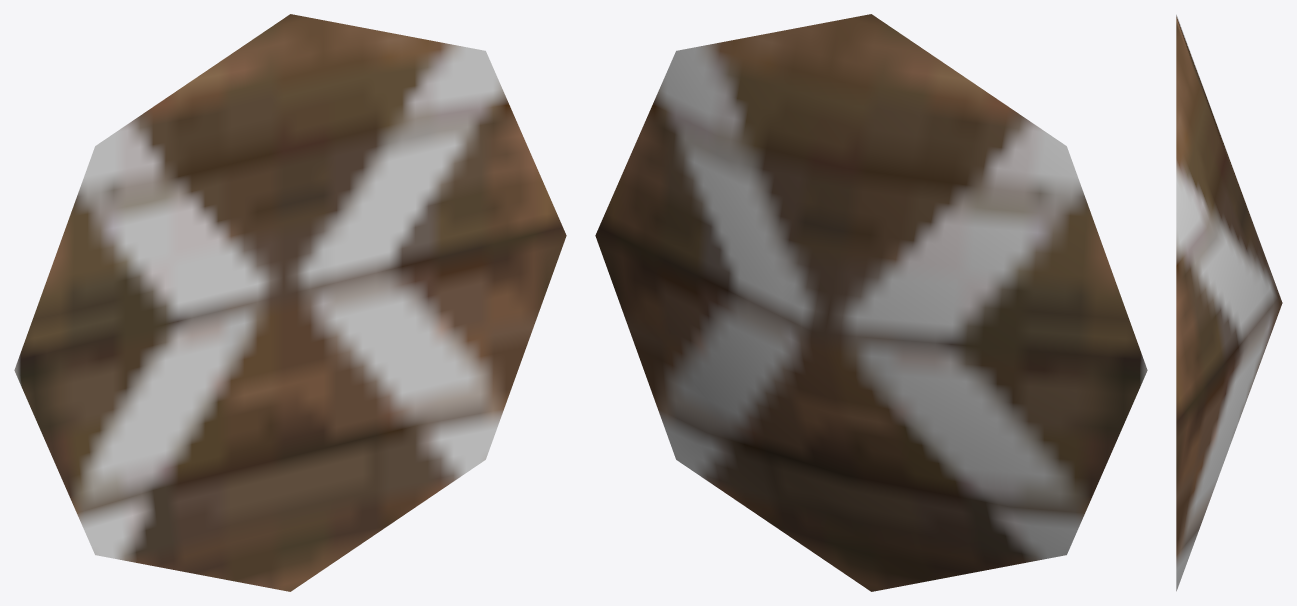
The model's file is attachments_e_shield_small_copper.glb.
3 renders of one model, left to right at view 1: azimuth 30°, elevation 25°; view 2: azimuth 150°, elevation 25°; view 3: azimuth 270°, elevation 25°, orthographic. The views are drawn at different scales.
Visible parts, largest first — view 1: MeshRoot; view 2: MeshRoot; view 3: MeshRoot.
Part boxes in pixels (bbox=[...]): MeshRoot: bbox=[14, 14, 566, 591]; MeshRoot: bbox=[595, 14, 1147, 591]; MeshRoot: bbox=[1176, 14, 1282, 591].
Size of the model in its own units: 0.4473 by 0.4473 by 0.0772.
1 material, 1 textured.
